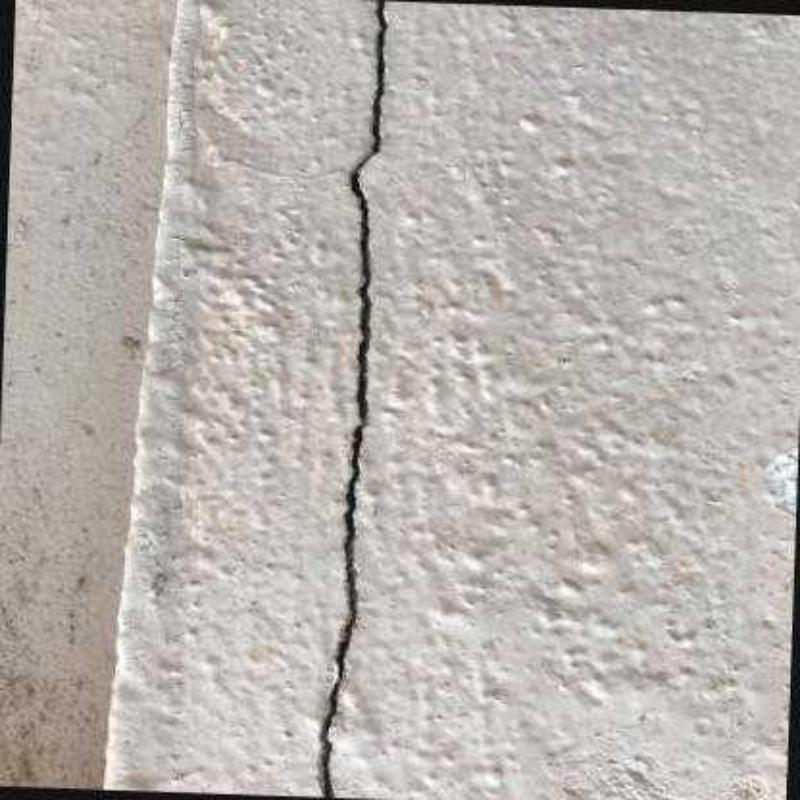crack: (320, 2, 388, 798)
